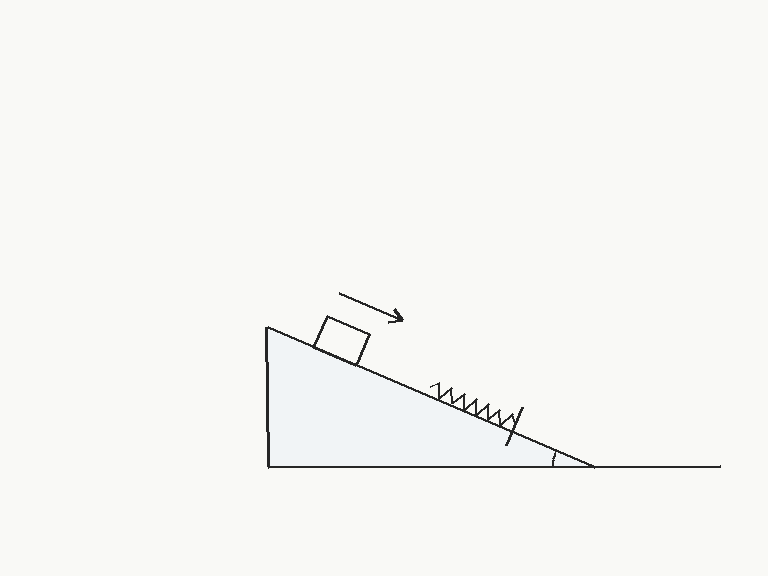block: (311, 314, 371, 367)
ramp: (265, 326, 595, 468)
spring: (428, 381, 517, 426)
